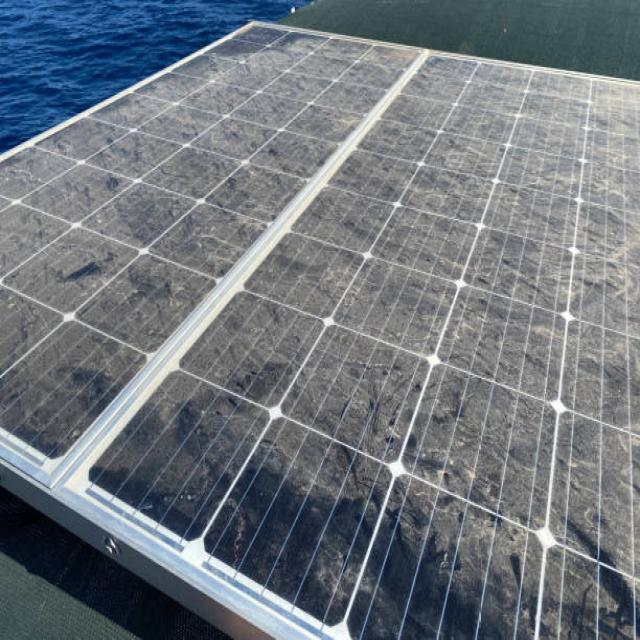dust-solar-panel: (0, 19, 640, 640)
